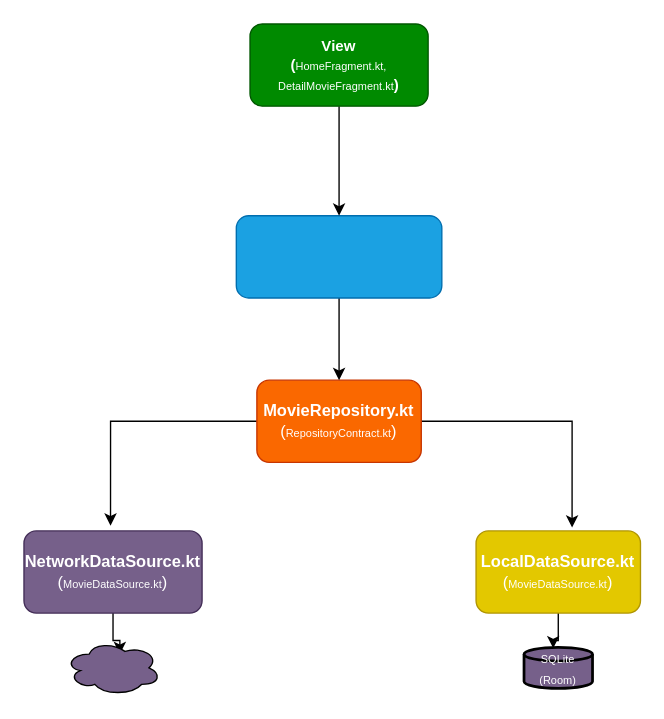
Some shapes in this 664 by 719 pixel diagram are drawn without their labels. The shapes that lost their labels are listed below. From the top down, each one's centre as x and y in pixels, then its label:
At pixel 338 256: "ViewModel ( HomeViewModel.kt , DetailViewModel.kt )".
At pixel 112 667: "WebService (Retrofit)".
